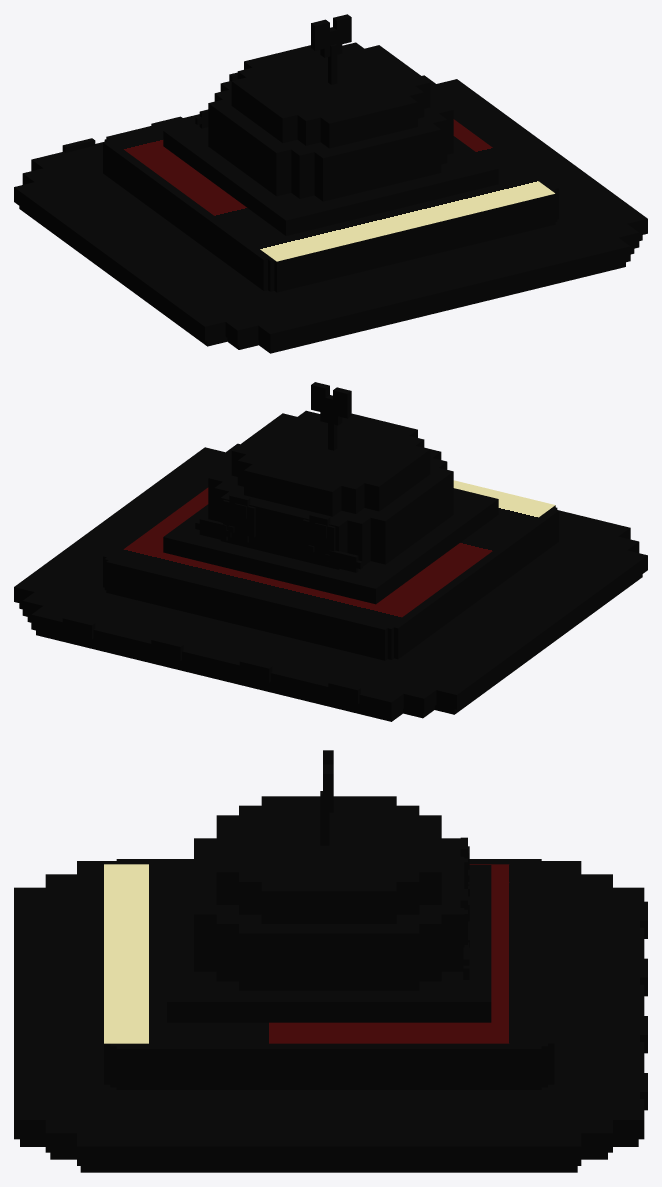
Rendered from hat_ufo.obj.
The picture shows the model from 3 angles, top to bottom: view 1: azimuth 30°, elevation 25°; view 2: azimuth 150°, elevation 25°; view 3: azimuth 270°, elevation 25°; orthographic projection. The views are drawn at different scales.
Size of the model in its own units: 0.9375 by 0.4625 by 0.88.
